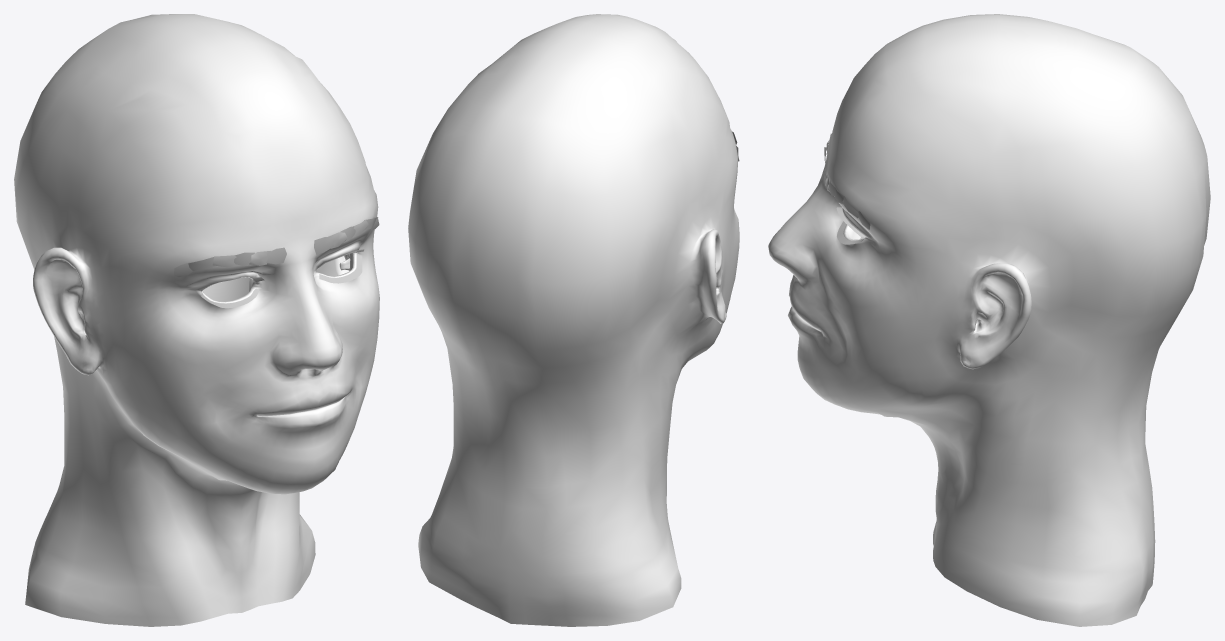
The model's file is eyeLookInRight.obj.
3 views of the same model, side by side, from view 1: azimuth 30°, elevation 25°; view 2: azimuth 150°, elevation 25°; view 3: azimuth 270°, elevation 25° (orthographic). The views are drawn at different scales.
Parts seen in each view (by area): view 1: FaceMesh_Plane.003; view 2: FaceMesh_Plane.003; view 3: FaceMesh_Plane.003.
Boxes of the visible parts, bbox=[...] form: FaceMesh_Plane.003: bbox=[14, 14, 379, 626]; FaceMesh_Plane.003: bbox=[408, 14, 739, 626]; FaceMesh_Plane.003: bbox=[768, 14, 1210, 626].
Size of the model in its own units: 1.54 by 2.71 by 1.94.
Materials: 5 (1 with a texture image).
